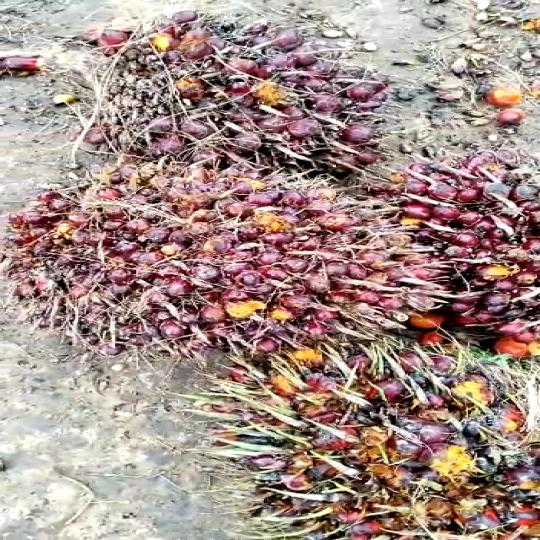masak: (0, 165, 454, 356), (213, 331, 540, 540), (44, 12, 398, 168)
